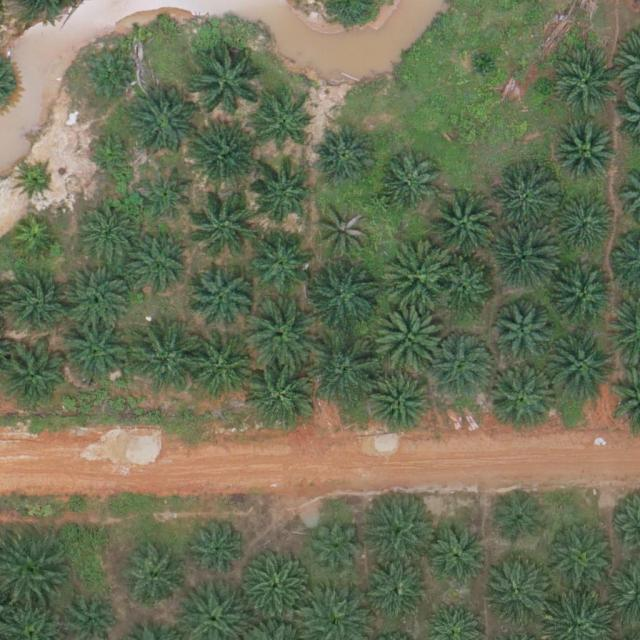Dead: (318, 206, 373, 261)
Healthy: (489, 224, 560, 295), (544, 333, 615, 404), (126, 89, 197, 160), (544, 524, 614, 595), (364, 492, 434, 563), (490, 363, 560, 434), (430, 189, 500, 260), (382, 241, 452, 312), (374, 302, 444, 373), (310, 261, 380, 332), (247, 362, 317, 433), (184, 335, 254, 406), (192, 188, 262, 259), (192, 44, 263, 114), (62, 263, 133, 333), (60, 318, 131, 388), (128, 324, 198, 395), (238, 554, 308, 624), (479, 558, 549, 628), (312, 337, 382, 407), (246, 300, 316, 370), (186, 124, 256, 194), (365, 562, 428, 625), (555, 55, 618, 118), (377, 153, 440, 216), (187, 518, 249, 581), (124, 549, 186, 612), (427, 521, 490, 583), (493, 306, 555, 369), (431, 333, 493, 396), (368, 372, 430, 435), (313, 124, 375, 187), (250, 165, 312, 228), (189, 266, 251, 329), (126, 236, 188, 299), (6, 277, 68, 340), (556, 124, 618, 186), (556, 196, 618, 258), (554, 269, 616, 331), (495, 171, 557, 233), (250, 230, 312, 292), (78, 203, 140, 265), (312, 520, 367, 575), (493, 490, 548, 545), (438, 261, 493, 316), (257, 100, 312, 155), (141, 169, 196, 224), (81, 49, 136, 104)
Small: (89, 131, 136, 178), (17, 163, 56, 202), (467, 47, 498, 79)
Yellow: (11, 217, 58, 264)
